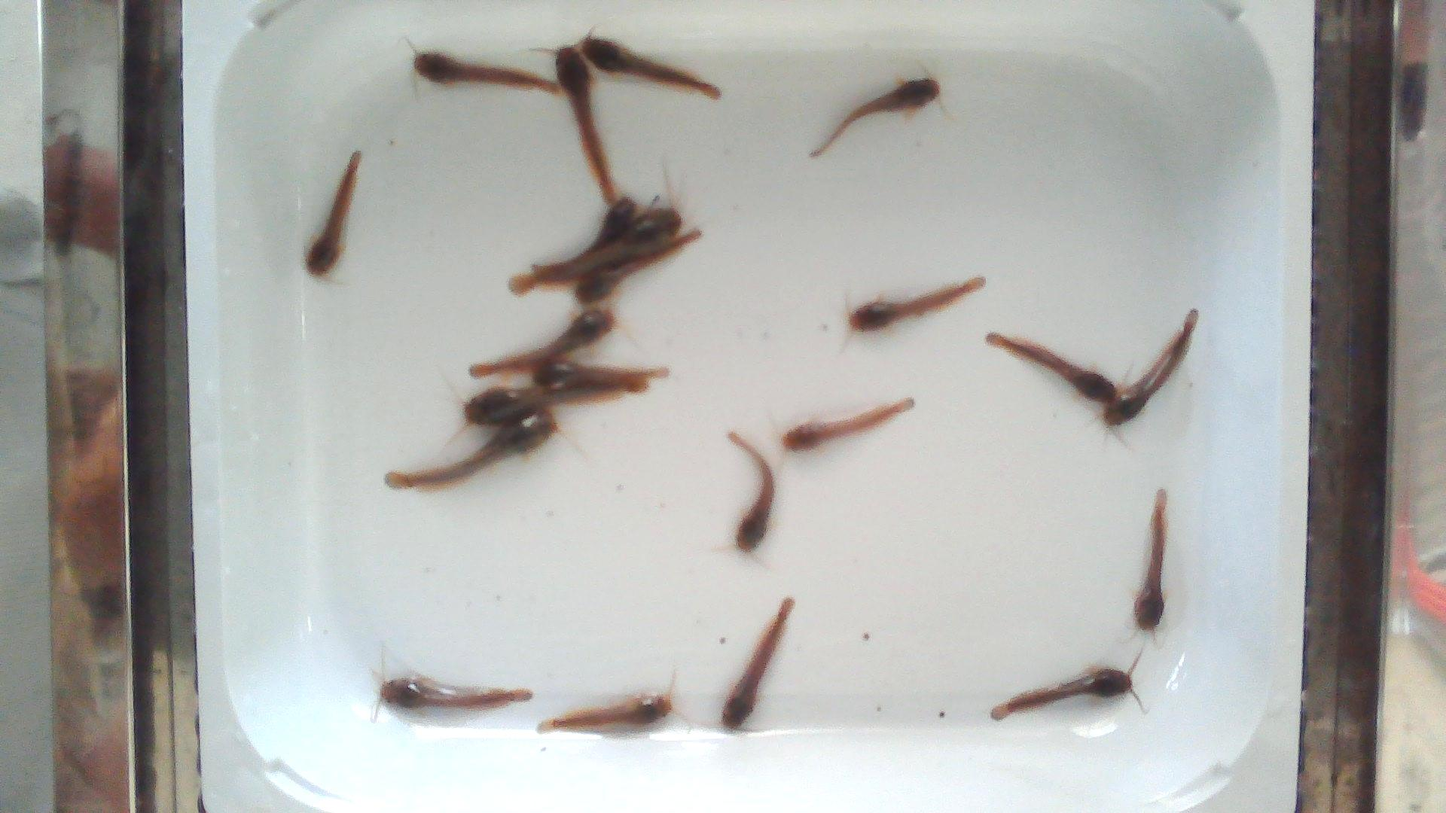lele: (511, 209, 682, 298), (386, 410, 557, 489), (1102, 309, 1199, 426), (810, 78, 940, 157), (471, 306, 614, 376), (556, 47, 620, 203), (986, 331, 1118, 406), (721, 597, 793, 729), (575, 233, 708, 303), (581, 35, 719, 99), (465, 384, 633, 429), (849, 276, 985, 331), (991, 668, 1132, 720), (305, 151, 361, 276), (782, 397, 914, 450), (534, 198, 638, 265), (414, 52, 561, 94), (538, 687, 671, 730), (728, 433, 774, 551), (380, 676, 532, 709), (1134, 489, 1166, 630), (532, 361, 666, 393)
